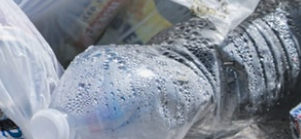garbage: (1, 2, 301, 137)
